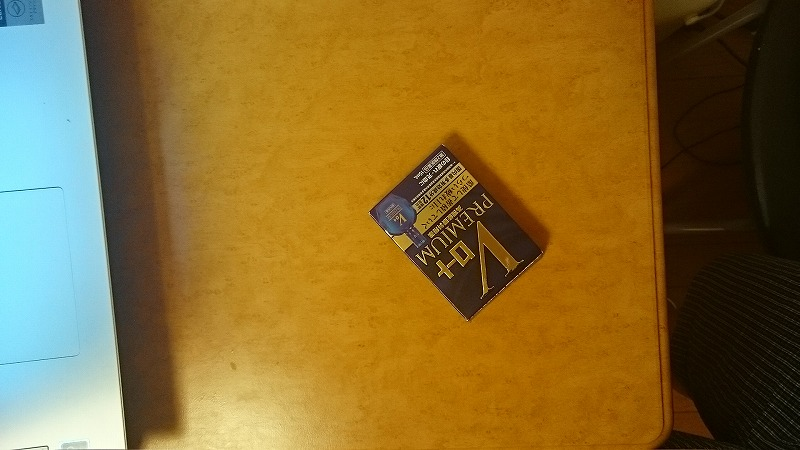D: (368, 139, 550, 331)
